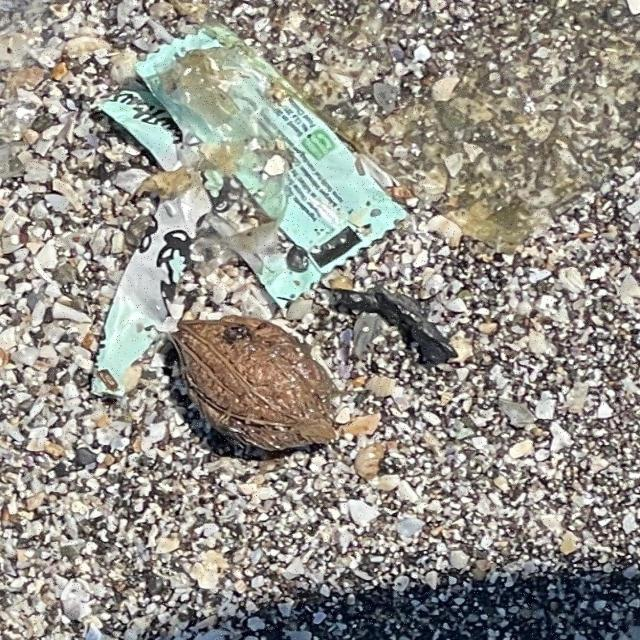plastic_waste: (94, 24, 414, 316)
